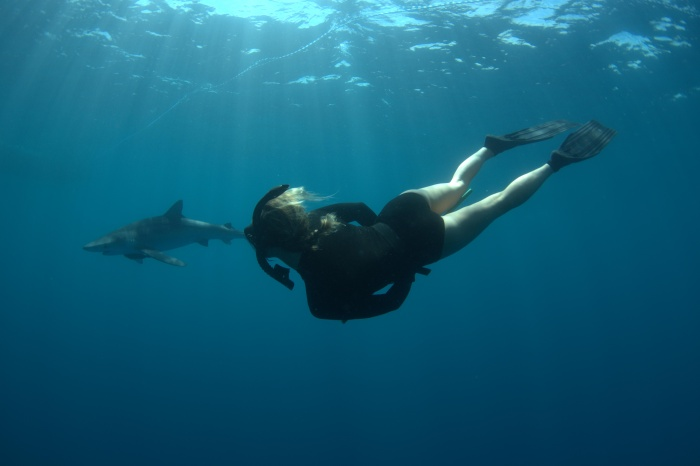Azul: (61, 177, 261, 282)
